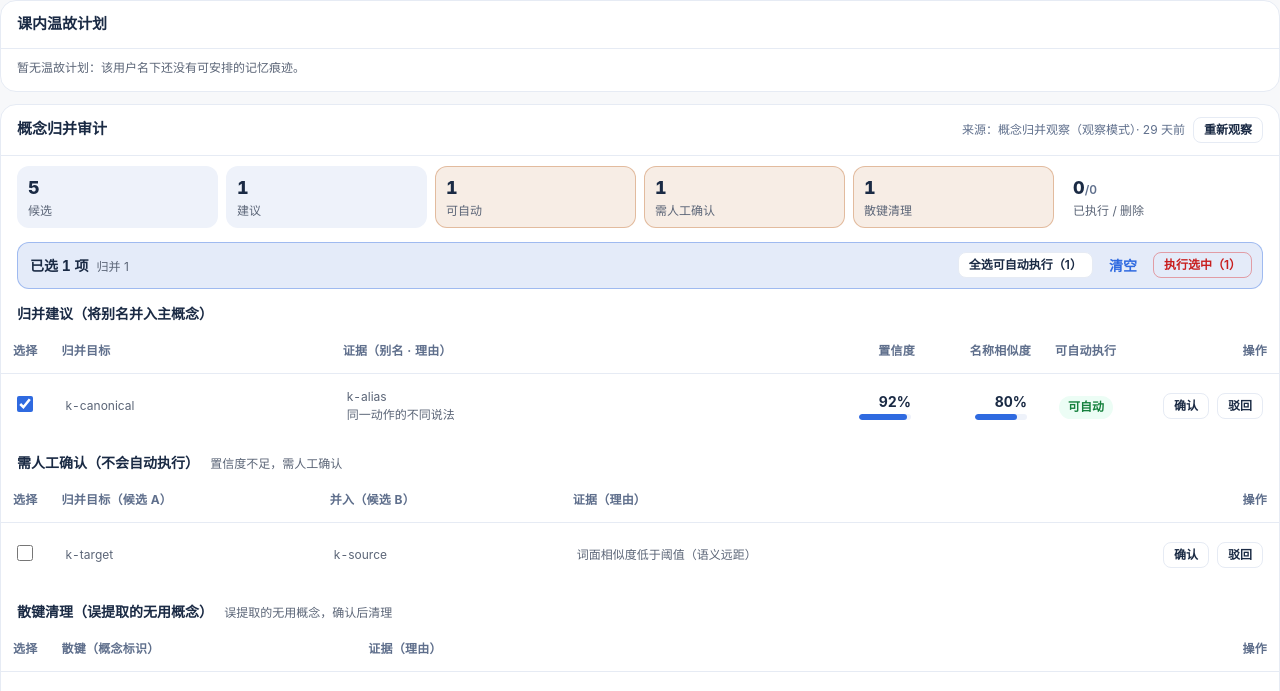
Test: MemoryReview 归并处理条（2026-10-19 重设计） › 勾选后：读数写清选了几项与构成，警告独立一行常显
The image size is (1280, 691).
Expected: the element with class "mr-bulk" shows "已选 1 项", [30,256,89,274]
Expected: the element with class "mr-bulk" shows "归并 1", [97,258,129,274]
Click the checkbox named "勾选执行归并：k-source 并入 k-target（需人工确认）" at (25, 553), box [17,545,33,561]
(page scrolled)
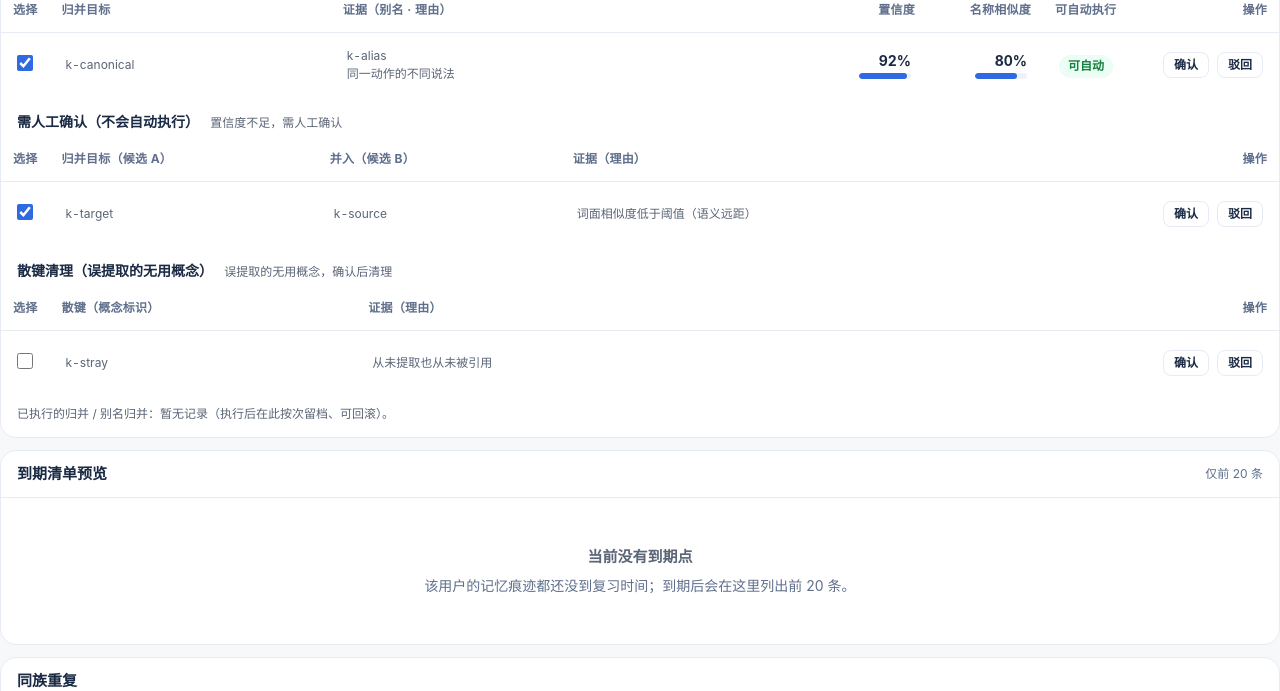
Click the checkbox named "勾选清理散键：k-stray" at (25, 361), box [17,353,33,369]
(page scrolled)
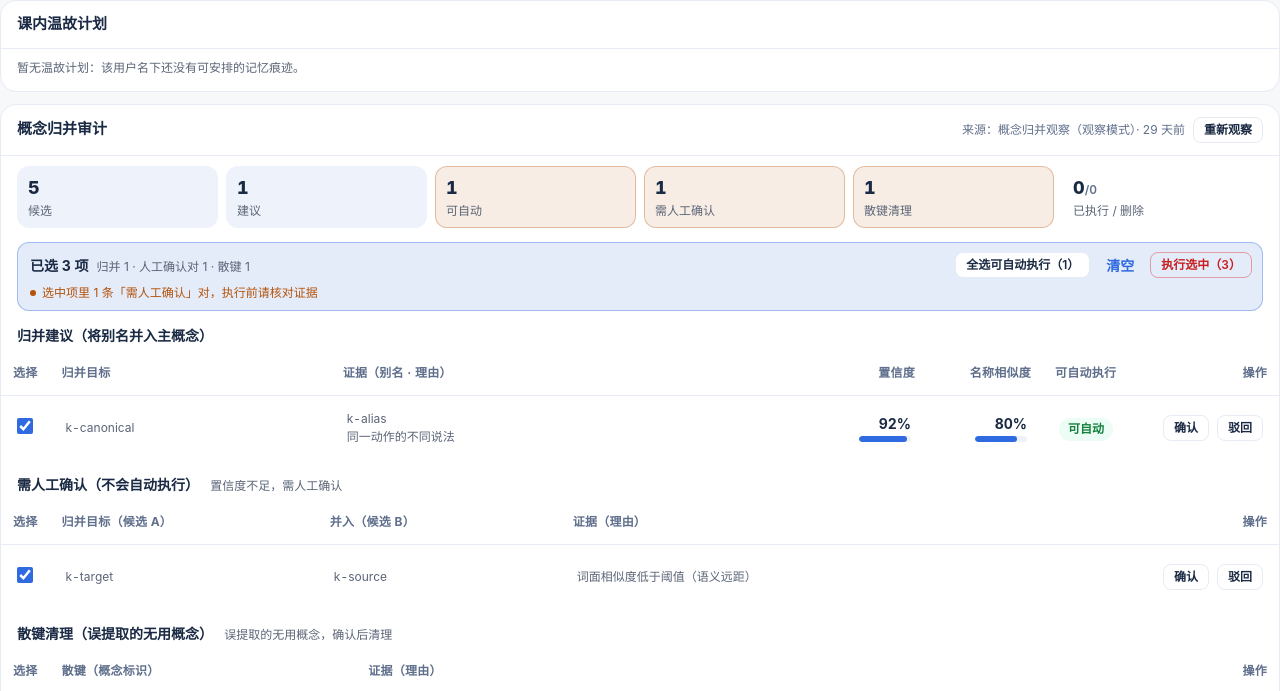
Expected: the element with class "mr-bulk" shows "人工确认对 1", [97,258,250,274]
Expected: the element with class "mr-bulk" shows "已选 3 项", [30,256,89,274]
Expected: the element with class "mr-bulk" shows "散键 1", [97,258,250,274]
